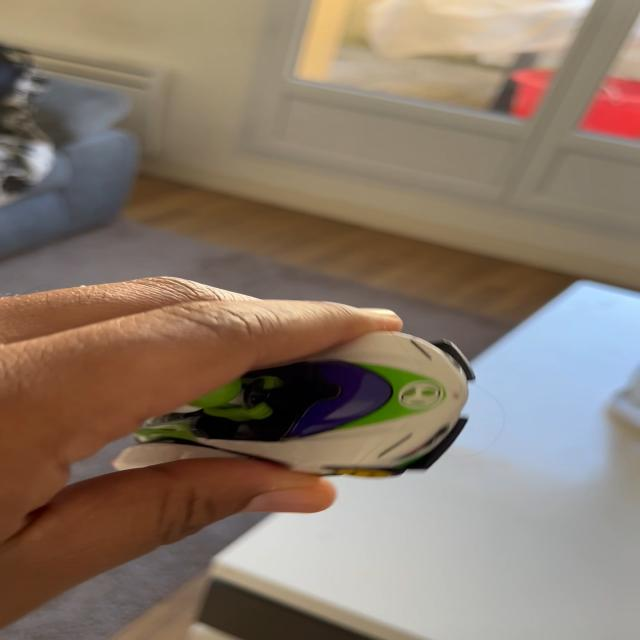yoshi: (121, 339, 469, 489)
